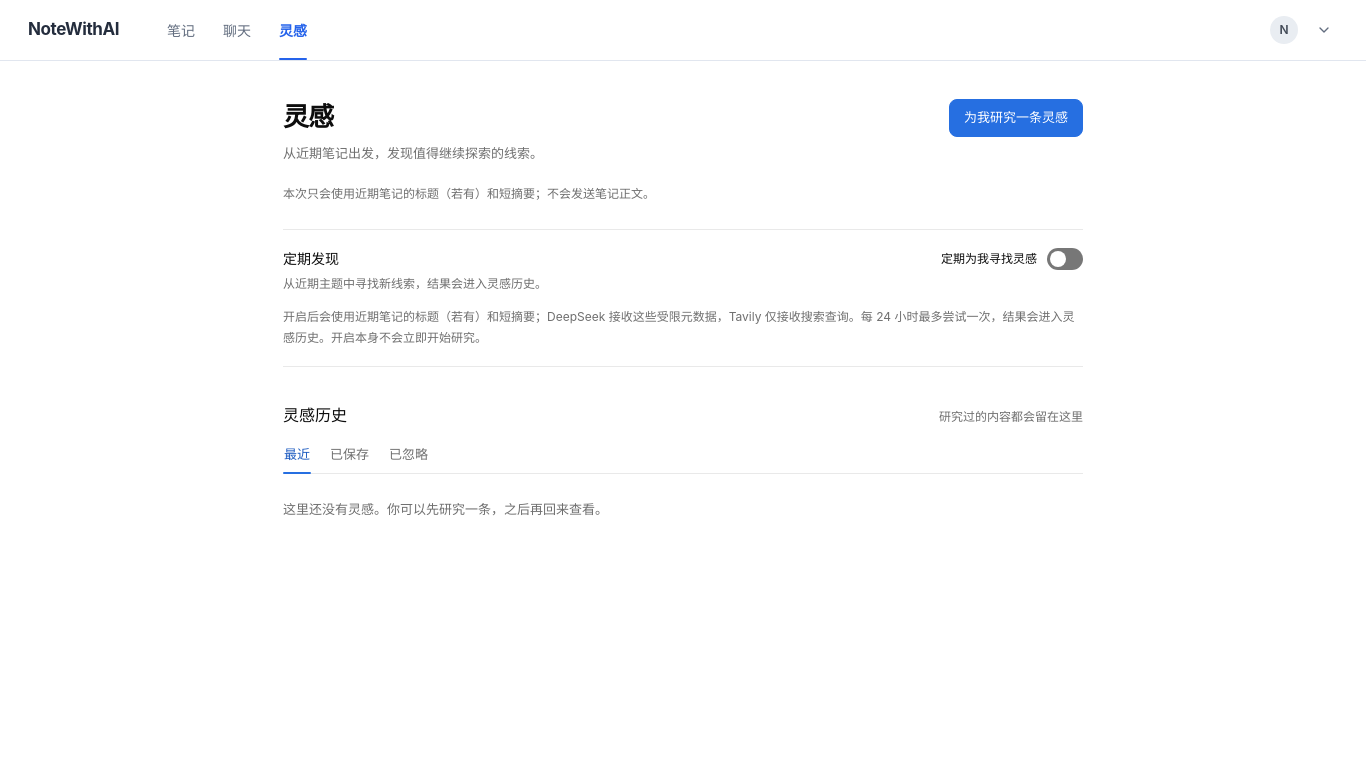
InspirationPage › shows a directed no-result state and allows a new manual request
Click the button "为我研究一条灵感" at [1016, 118], box [949, 99, 1083, 136]
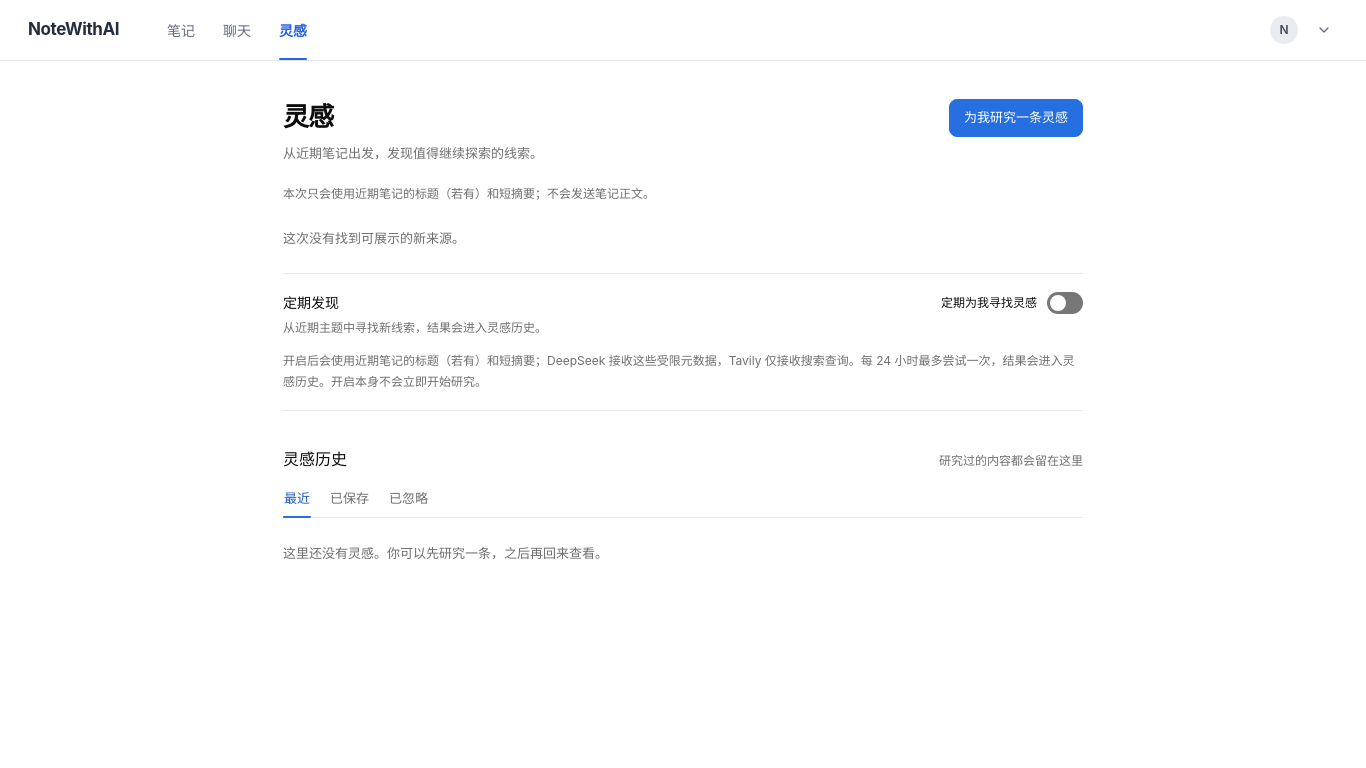
Check: the text "这次没有找到可展示的新来源。" is shown, box [283, 230, 465, 246]
